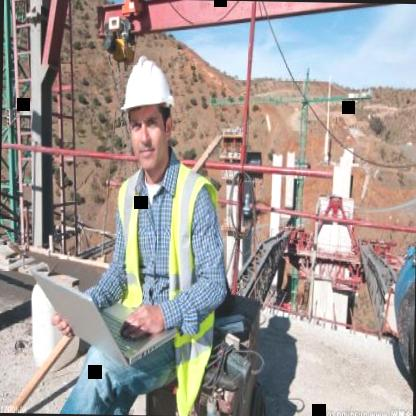helmet: (114, 52, 176, 175)
